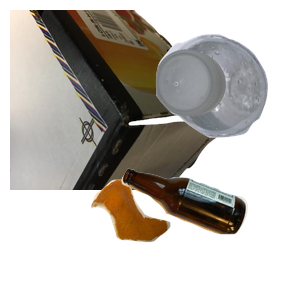cardboard: (10, 10, 238, 190)
glass: (119, 166, 300, 300)
plastic: (153, 31, 300, 161)
trash: (88, 177, 251, 300)
